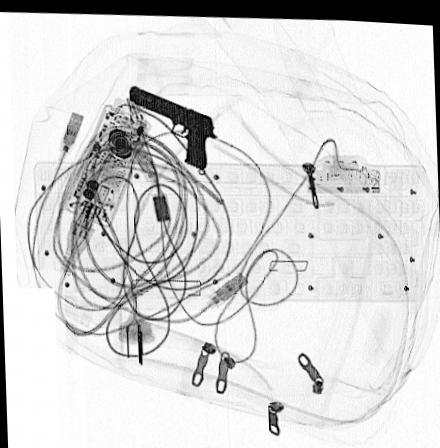Gun: (126, 81, 216, 168)
